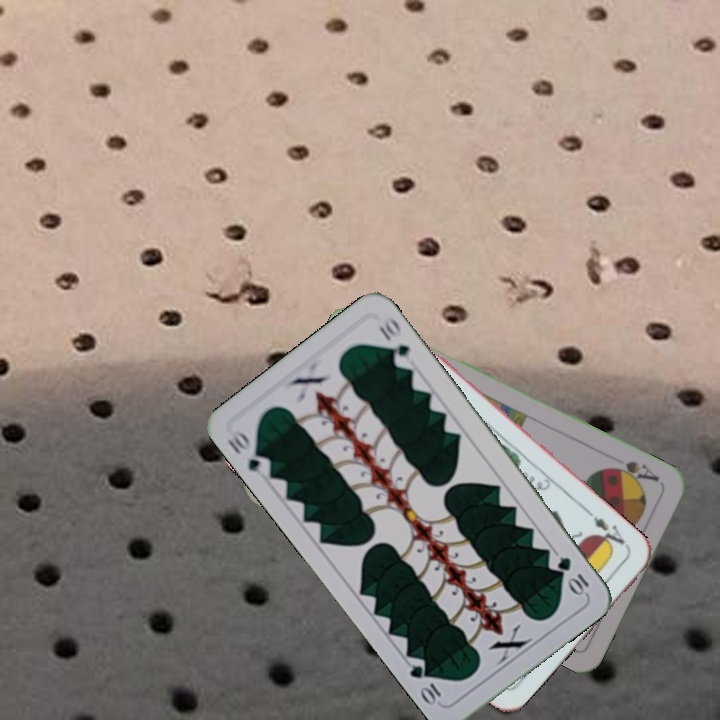EA: (584, 507, 632, 553)
G10: (223, 425, 274, 475), (553, 552, 592, 598)
SA: (606, 456, 665, 488)
